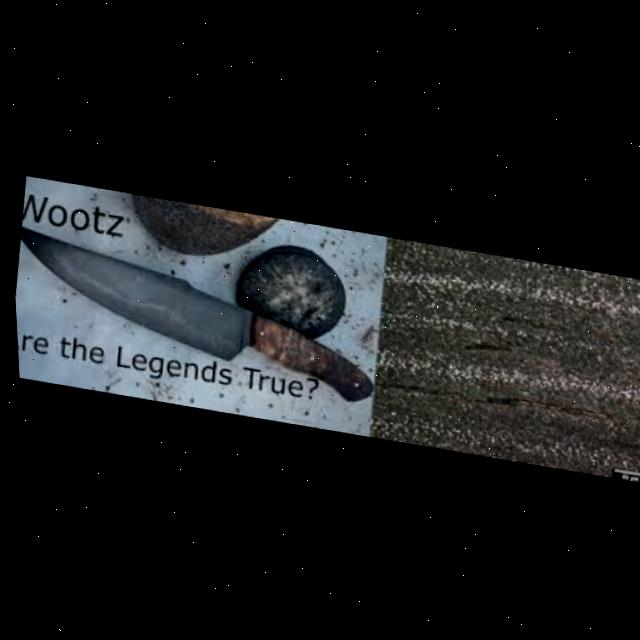Knife: (9, 222, 383, 401)
